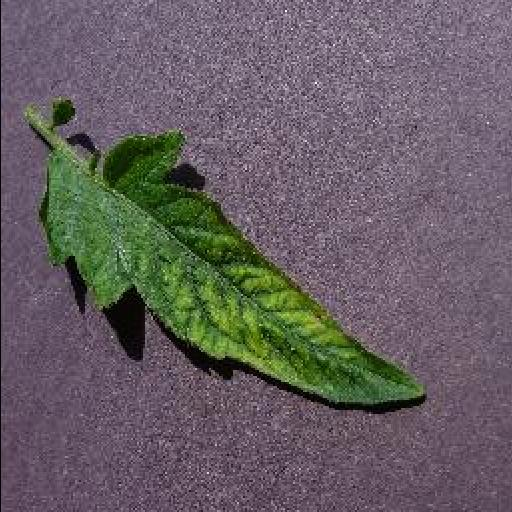disease_tomato: (44, 129, 430, 411)
